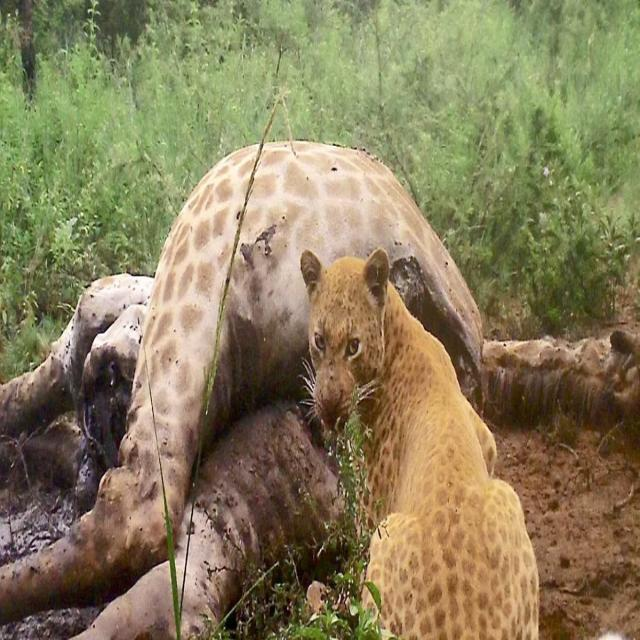Leopard: (299, 249, 542, 640)
